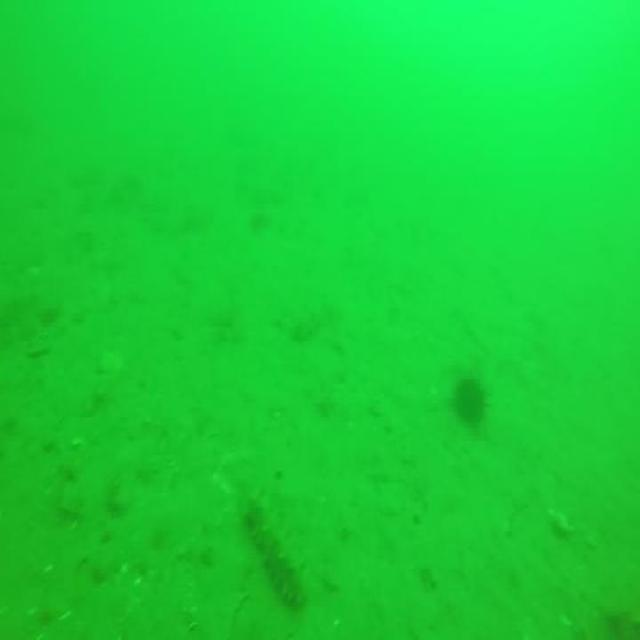echinus: (452, 373, 488, 430)
holothurian: (244, 498, 306, 612)
scallop: (546, 506, 574, 542)
